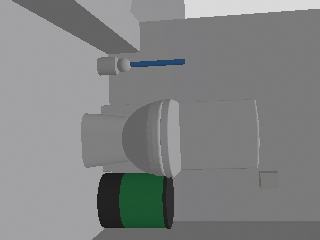lid_1: (160, 98, 181, 177)
